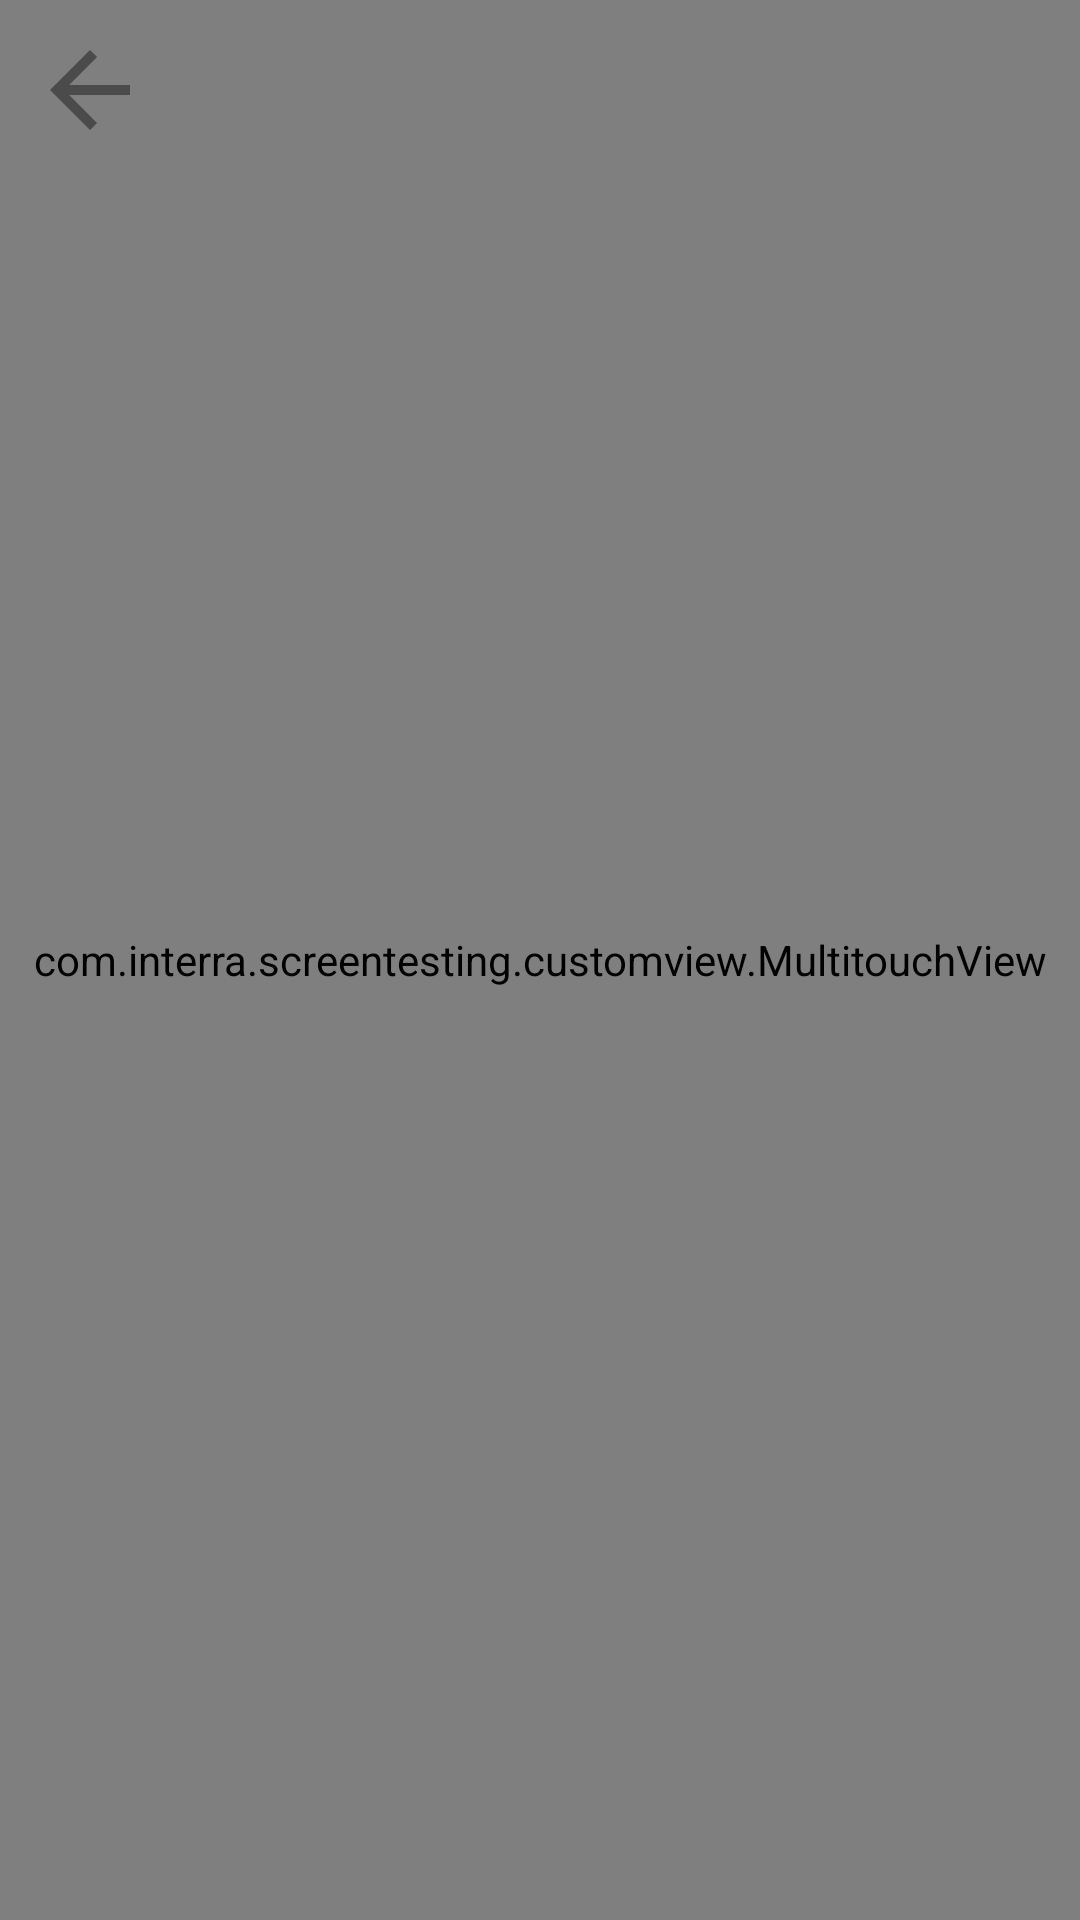

Icon click points for this 1080×1920 phone screenshot, format (x=x, y=y):
arrow back: (x=90, y=90)
